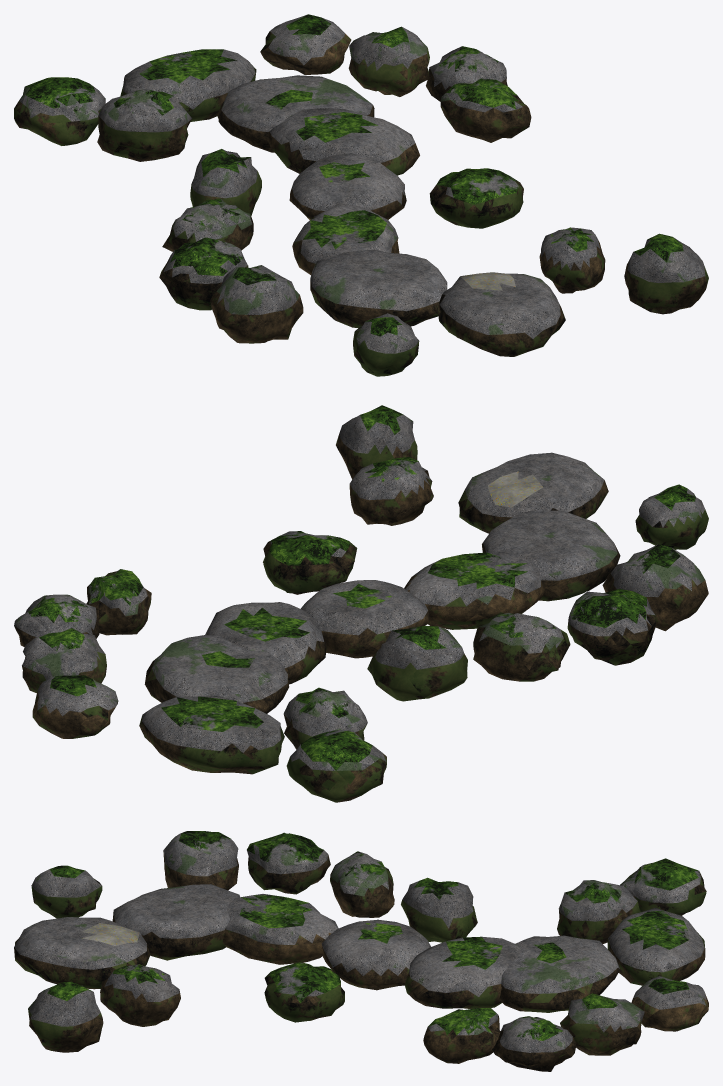
Rendered from Stepping_Stones.glb.
3 renders of one model, top to bottom at view 1: azimuth 30°, elevation 25°; view 2: azimuth 150°, elevation 25°; view 3: azimuth 270°, elevation 25°, orthographic. The views are drawn at different scales.
Parts seen in each view (by area): view 1: Stepping_Stones__Stone; view 2: Stepping_Stones__Stone; view 3: Stepping_Stones__Stone.
Part boxes in pixels (box(x1,y1,x2,y2)): Stepping_Stones__Stone: box(14, 14, 708, 376); Stepping_Stones__Stone: box(14, 405, 708, 802); Stepping_Stones__Stone: box(14, 831, 708, 1071).
Bounding box in the file's own units: 15.81 × 2.19 × 21.86.
1 material, 1 textured.
